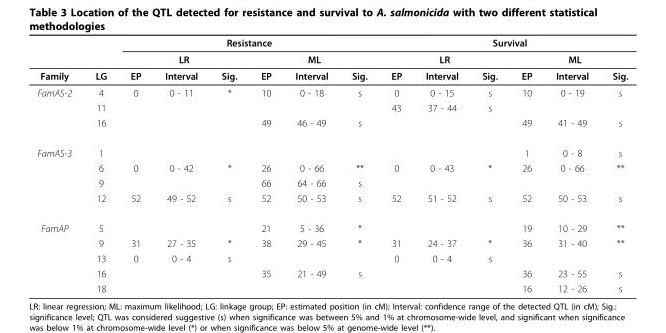table: (36, 36, 627, 293)
table column: (282, 36, 339, 293), (152, 36, 208, 293), (413, 36, 469, 293), (543, 36, 599, 293), (36, 36, 82, 293), (208, 36, 248, 293), (469, 36, 509, 293), (339, 36, 378, 293), (82, 36, 117, 293), (117, 36, 152, 293), (378, 36, 413, 293), (248, 36, 282, 293), (509, 36, 543, 293), (599, 36, 627, 293)
table column header: (36, 36, 627, 84)
table row: (36, 114, 627, 137), (36, 137, 627, 160), (36, 212, 627, 235), (36, 190, 627, 212), (36, 50, 627, 67), (36, 67, 627, 84), (36, 84, 627, 99), (36, 99, 627, 114), (36, 160, 627, 175), (36, 175, 627, 190), (36, 235, 627, 250), (36, 250, 627, 265), (36, 265, 627, 280), (36, 36, 627, 50), (36, 280, 627, 293)
table spanning cell: (36, 212, 82, 293), (117, 36, 378, 50), (378, 36, 627, 50), (36, 137, 82, 212), (36, 84, 82, 137), (117, 50, 248, 67), (378, 50, 509, 67), (248, 50, 378, 67), (36, 36, 82, 84), (509, 50, 627, 67), (82, 36, 117, 84)
